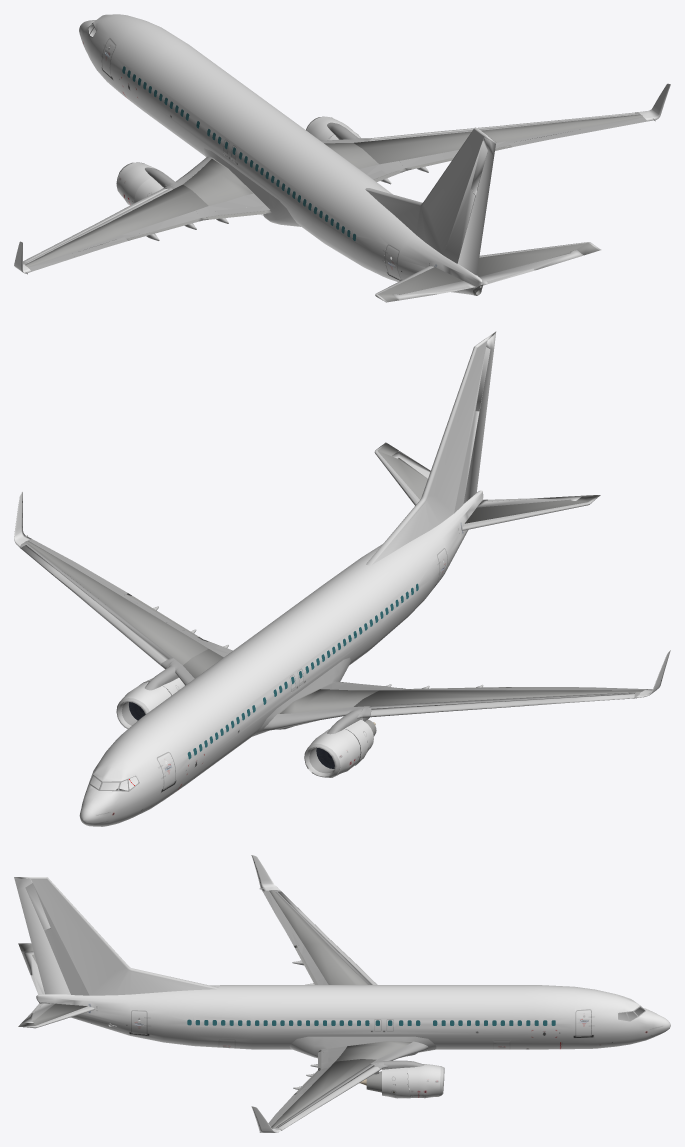
3 renders of one model, top to bottom at view 1: azimuth 30°, elevation 25°; view 2: azimuth 150°, elevation 25°; view 3: azimuth 270°, elevation 25°, orthographic. The views are drawn at different scales.
Parts seen in each view (by area): view 1: fuselage, vstab, obwing_001, obwing, rudder, winginbd, rhstab, lhstab, lhfairing, windowslh, engnose_001, panel1upper (+9 smaller); view 2: fuselage, vstab, obwing_001, obwing, lhstab, winginbd, rudder, vstable, rhstab, engnose_001, windowslh, ible (+3 smaller); view 3: fuselage, vstab, obwing, rudder, obwing_001, rhwtobfairing, windowsrh, No2engfancase, winginbd_001, rhstab, No2reverser, WingletL (+3 smaller).
Boxes of the visible parts, bbox=[...] form: fuselage: bbox=[79, 14, 482, 295]; vstab: bbox=[366, 127, 495, 263]; obwing_001: bbox=[354, 114, 642, 164]; obwing: bbox=[25, 184, 208, 267]; rudder: bbox=[457, 137, 495, 275]; winginbd: bbox=[183, 158, 253, 205]; rhstab: bbox=[477, 242, 600, 276]; lhstab: bbox=[375, 266, 462, 302]; lhfairing: bbox=[203, 148, 300, 226]; windowslh: bbox=[122, 66, 355, 240]; engnose_001: bbox=[116, 162, 155, 205]; panel1upper: bbox=[195, 193, 269, 217]; fuselage: bbox=[79, 490, 483, 826]; vstab: bbox=[372, 331, 496, 564]; obwing_001: bbox=[25, 541, 208, 665]; obwing: bbox=[354, 690, 643, 706]; lhstab: bbox=[462, 495, 600, 530]; winginbd: bbox=[278, 689, 378, 713]; rudder: bbox=[463, 333, 495, 503]; vstable: bbox=[366, 346, 476, 565]; rhstab: bbox=[374, 442, 427, 505]; engnose_001: bbox=[309, 729, 360, 777]; windowslh: bbox=[187, 583, 418, 759]; ible: bbox=[263, 706, 366, 731]; fuselage: bbox=[36, 985, 670, 1049]; vstab: bbox=[14, 877, 215, 995]; obwing: bbox=[269, 890, 367, 984]; rudder: bbox=[14, 878, 70, 994]; obwing_001: bbox=[271, 1059, 376, 1128]; rhwtobfairing: bbox=[289, 1036, 436, 1058]; windowsrh: bbox=[187, 1019, 555, 1025]; No2engfancase: bbox=[408, 1064, 440, 1098]; winginbd_001: bbox=[335, 1041, 412, 1061]; rhstab: bbox=[18, 1003, 94, 1028]; No2reverser: bbox=[382, 1067, 410, 1098]; WingletL: bbox=[251, 855, 280, 1132].
Bounding box in the file's own units: 35.69 × 39.42 × 12.11.
